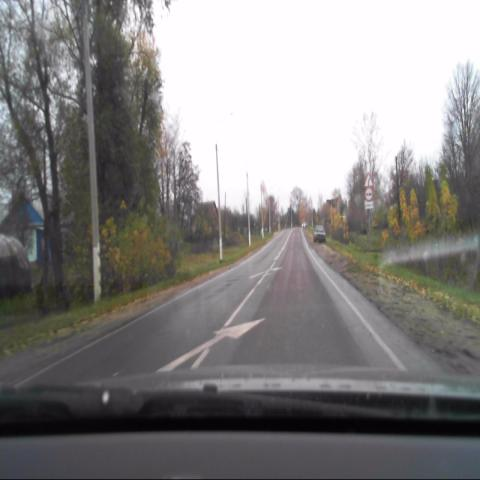1_11: (364, 172, 372, 186)
3_20: (364, 187, 373, 200)
